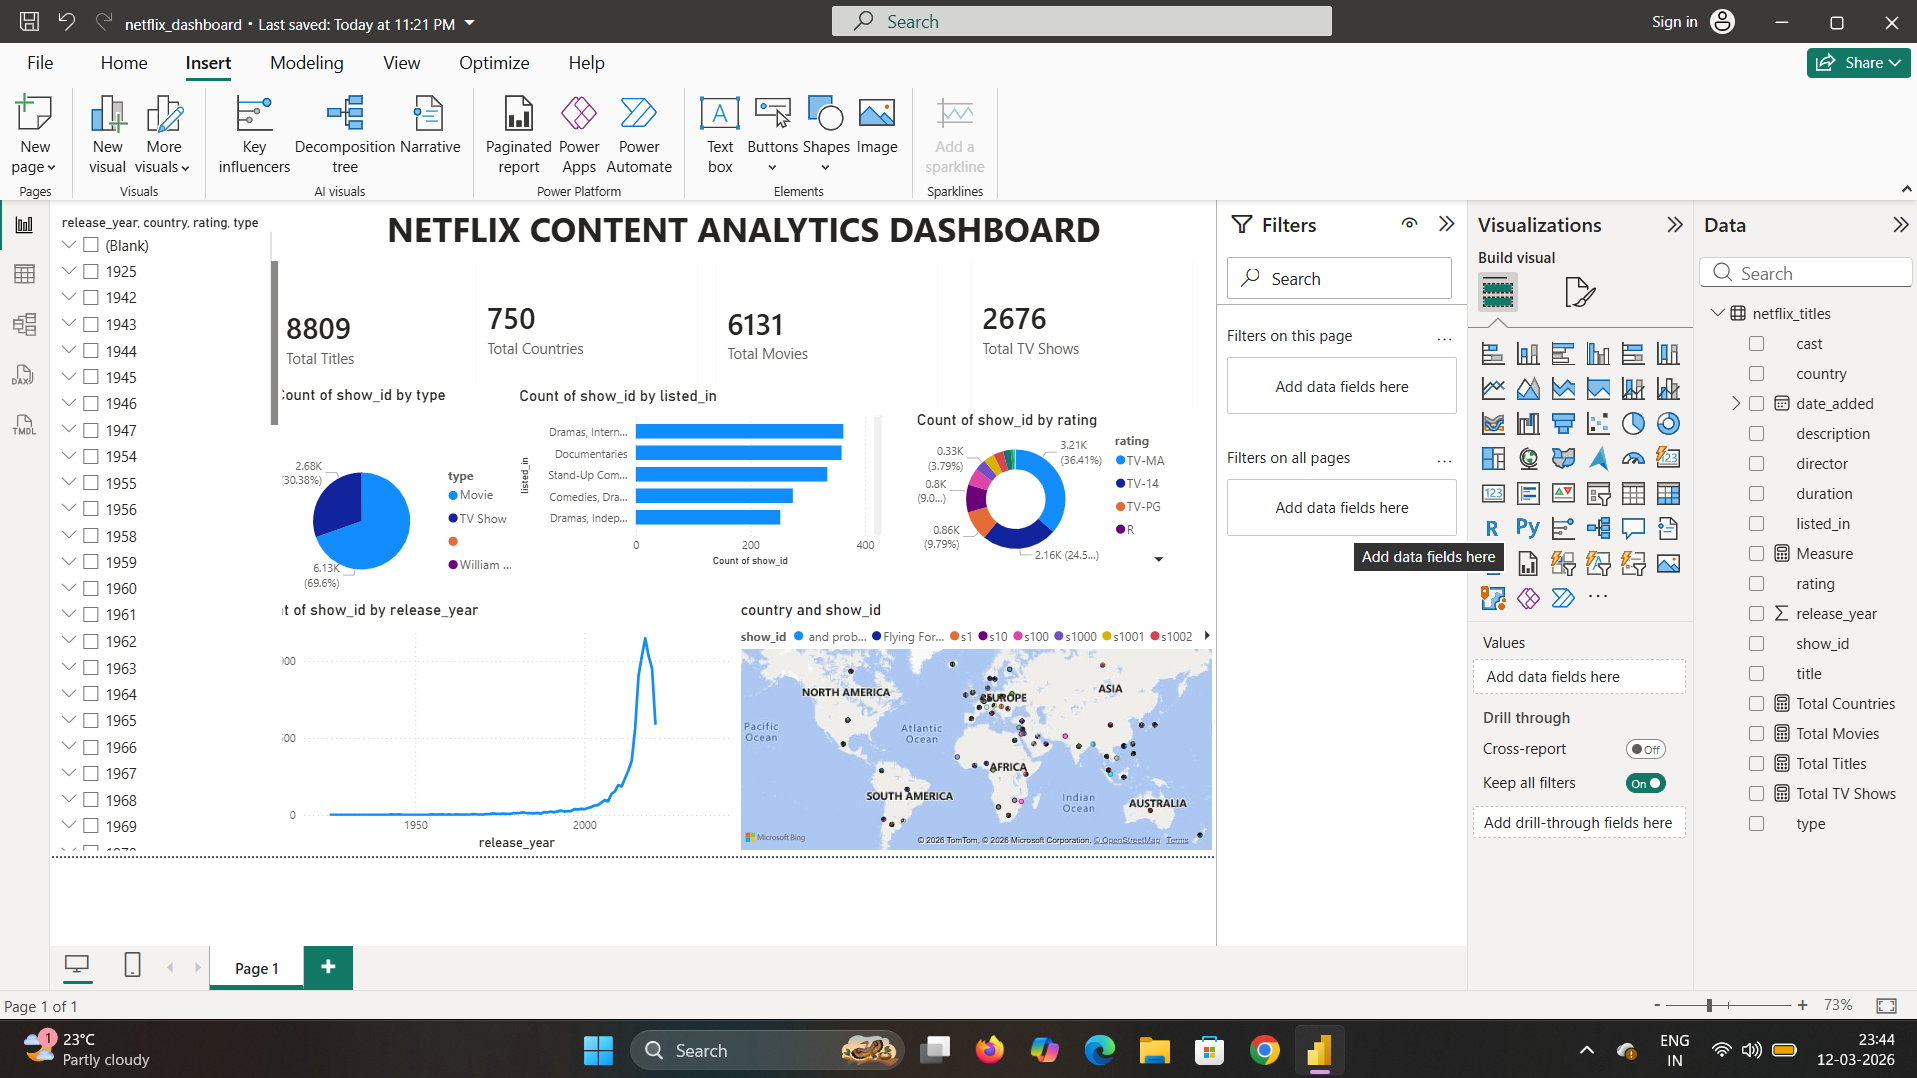

The dashboard page shown, as its layout file describes it:
{"tool":"powerbi","page":{"name":"Page 1","canvas":[1280,720],"ordinal":0},"visuals":[{"type":"cardVisual","fields":{"Data":["netflix_titles.Total Titles","netflix_titles.Total Titles"]},"box":[229.2,11,249.7,279.9],"z":0},{"type":"cardVisual","fields":{"Data":["netflix_titles.Total Countries"]},"box":[450.1,0,279.9,279.9],"z":1000},{"type":"cardVisual","fields":{"Data":["netflix_titles.Total Movies"]},"box":[713.6,11,279.9,269],"z":2000},{"type":"cardVisual","fields":{"Data":["netflix_titles.Total TV Shows"]},"box":[993.5,0,279.9,279.9],"z":3000},{"type":"pieChart","fields":{"Category":["netflix_titles.type"],"Y":["CountNonNull(netflix_titles.show_id)"]},"box":[242.9,203.1,279.9,279.9],"z":4000},{"type":"barChart","fields":{"Category":["netflix_titles.listed_in"],"Y":["CountNonNull(netflix_titles.show_id)"]},"box":[510.5,204.5,407.5,203.1],"z":5000},{"type":"donutChart","fields":{"Y":["CountNonNull(netflix_titles.show_id)"],"Category":["netflix_titles.rating"]},"box":[946.8,230.5,321.1,177],"z":6000},{"type":"lineChart","fields":{"Category":["netflix_titles.release_year"],"Y":["CountNonNull(netflix_titles.show_id)"]},"box":[214.1,439.1,539.3,279.9],"z":7000},{"type":"map","fields":{"Category":["netflix_titles.country"],"Series":["netflix_titles.show_id"]},"box":[753.3,439.1,526.9,279.9],"z":8000},{"type":"slicer","fields":{"Values":["netflix_titles.release_year","netflix_titles.country","netflix_titles.rating","netflix_titles.type"]},"box":[0,11,255.2,708.1],"z":9000},{"type":"textbox","box":[242.9,1.4,1037.4,65.9],"z":10000}]}

Visuals, with their boxes on the page's 1280x720 design canvas (x1, y1, x2, y2). These are canvas units, not pixel positions in the 1917x1078 screenshot, which may show the page scaled, cropped or inside an application window:
cardVisual - netflix_titles.Total Titles x netflix_titles.Total Titles: {"x1": 229, "y1": 11, "x2": 479, "y2": 291}
cardVisual - netflix_titles.Total Countries: {"x1": 450, "y1": 0, "x2": 730, "y2": 280}
cardVisual - netflix_titles.Total Movies: {"x1": 714, "y1": 11, "x2": 994, "y2": 280}
cardVisual - netflix_titles.Total TV Shows: {"x1": 994, "y1": 0, "x2": 1273, "y2": 280}
pieChart - netflix_titles.type x CountNonNull(netflix_titles.show_id): {"x1": 243, "y1": 203, "x2": 523, "y2": 483}
barChart - netflix_titles.listed_in x CountNonNull(netflix_titles.show_id): {"x1": 510, "y1": 204, "x2": 918, "y2": 408}
donutChart - CountNonNull(netflix_titles.show_id) x netflix_titles.rating: {"x1": 947, "y1": 230, "x2": 1268, "y2": 408}
lineChart - netflix_titles.release_year x CountNonNull(netflix_titles.show_id): {"x1": 214, "y1": 439, "x2": 753, "y2": 719}
map - netflix_titles.country x netflix_titles.show_id: {"x1": 753, "y1": 439, "x2": 1280, "y2": 719}
slicer - netflix_titles.release_year x netflix_titles.country: {"x1": 0, "y1": 11, "x2": 255, "y2": 719}
textbox: {"x1": 243, "y1": 1, "x2": 1280, "y2": 67}
